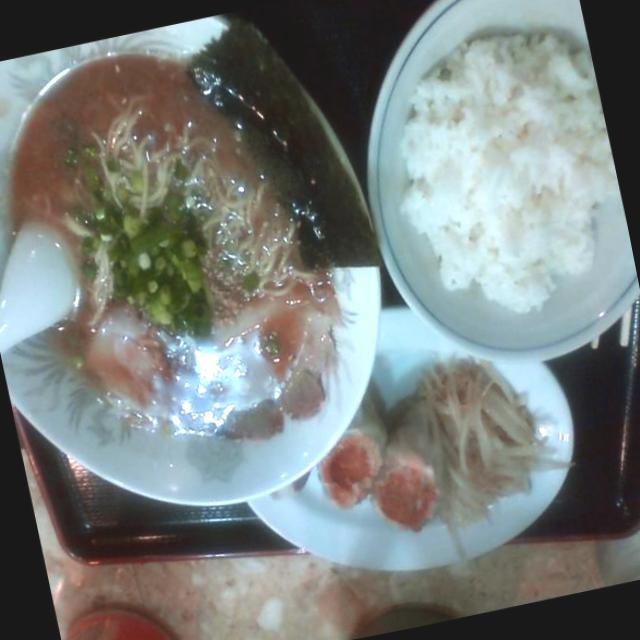Rice: (375, 16, 640, 349)
